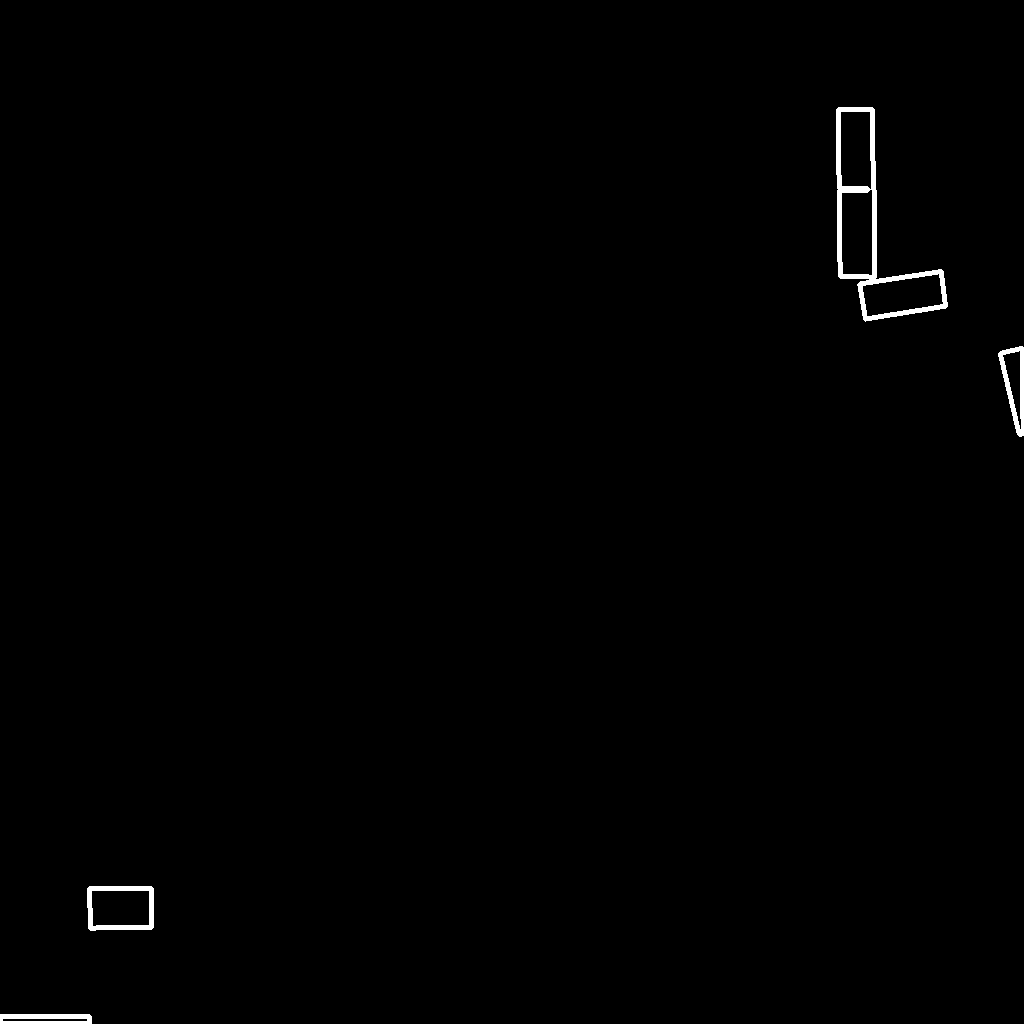building: (859, 271, 947, 320), (839, 190, 876, 278), (838, 109, 875, 190), (89, 888, 153, 929), (1000, 348, 1024, 436), (0, 1016, 91, 1024)
